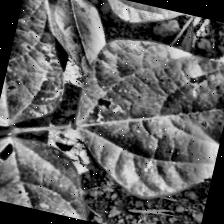ALS: (60, 34, 224, 210), (0, 0, 85, 154), (0, 134, 127, 224), (50, 0, 115, 80), (99, 0, 224, 39)
